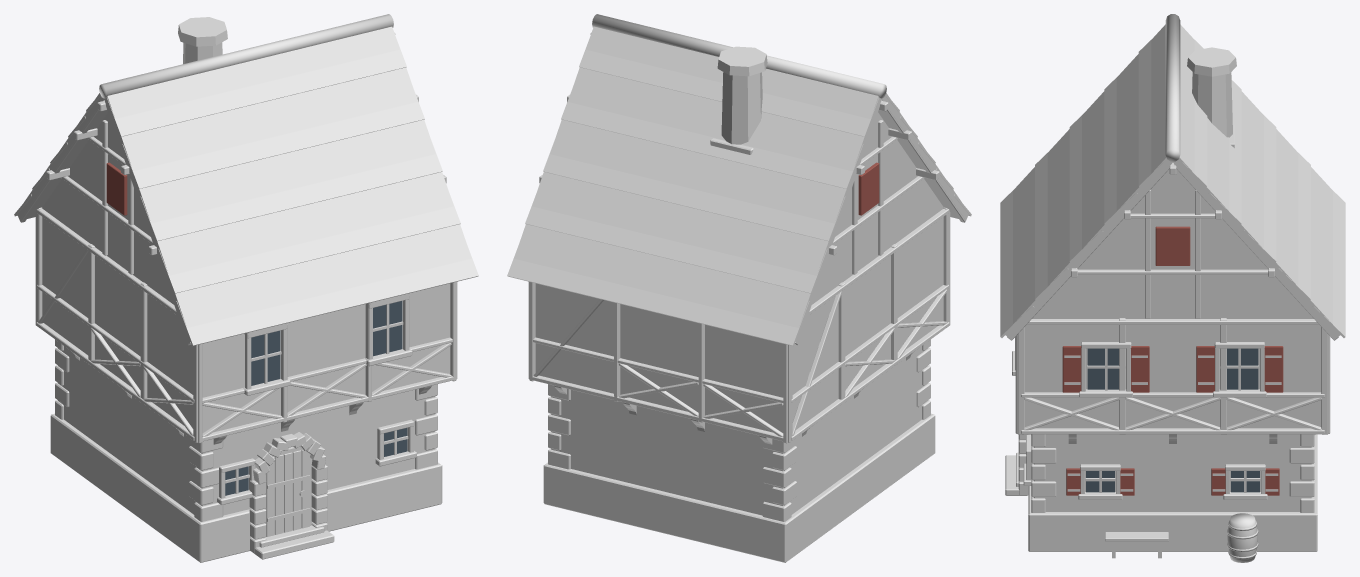
File: col_04_flamande_ardoise.fbx
3 views of the same model, side by side, from view 1: azimuth 30°, elevation 25°; view 2: azimuth 150°, elevation 25°; view 3: azimuth 270°, elevation 25° (orthographic). The views are drawn at different scales.
Visible parts, largest first — view 1: col_04_flamande_ardoise_LOD0; view 2: col_04_flamande_ardoise_LOD0; view 3: col_04_flamande_ardoise_LOD0.
Part boxes in pixels (<box>): col_04_flamande_ardoise_LOD0: <box>14,14,478,562</box>; col_04_flamande_ardoise_LOD0: <box>507,14,971,562</box>; col_04_flamande_ardoise_LOD0: <box>1000,14,1345,562</box>.
Size of what is drawn, in the model's own units: 6.84 by 9.81 by 7.18.
